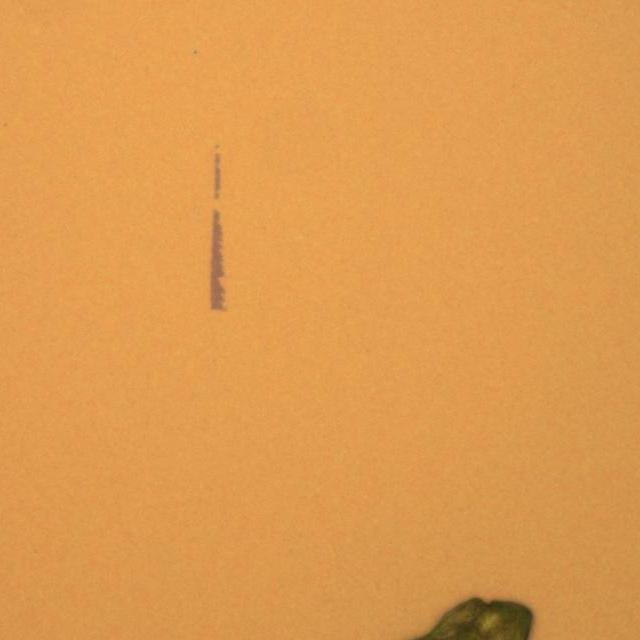monolayer-eWW4: (207, 208, 230, 316)
